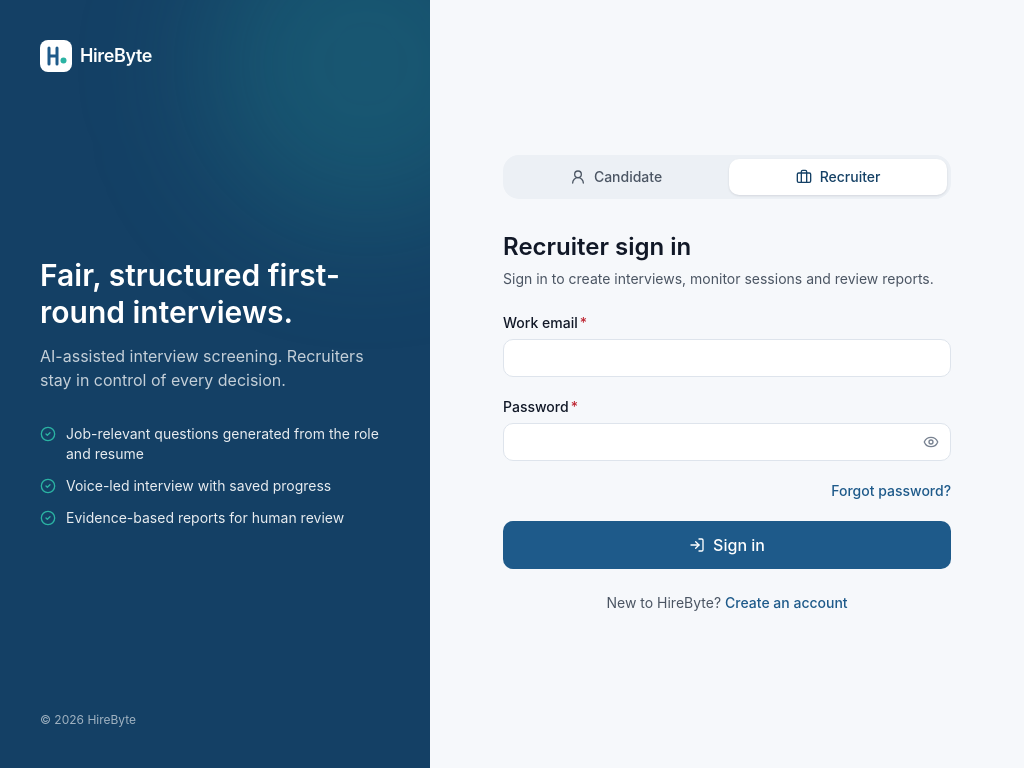
Scenario: RecruiterLoginPage › labels password reset as unavailable instead of faking it
Click the button "Forgot password?" at (891, 491), box [831,481,951,501]
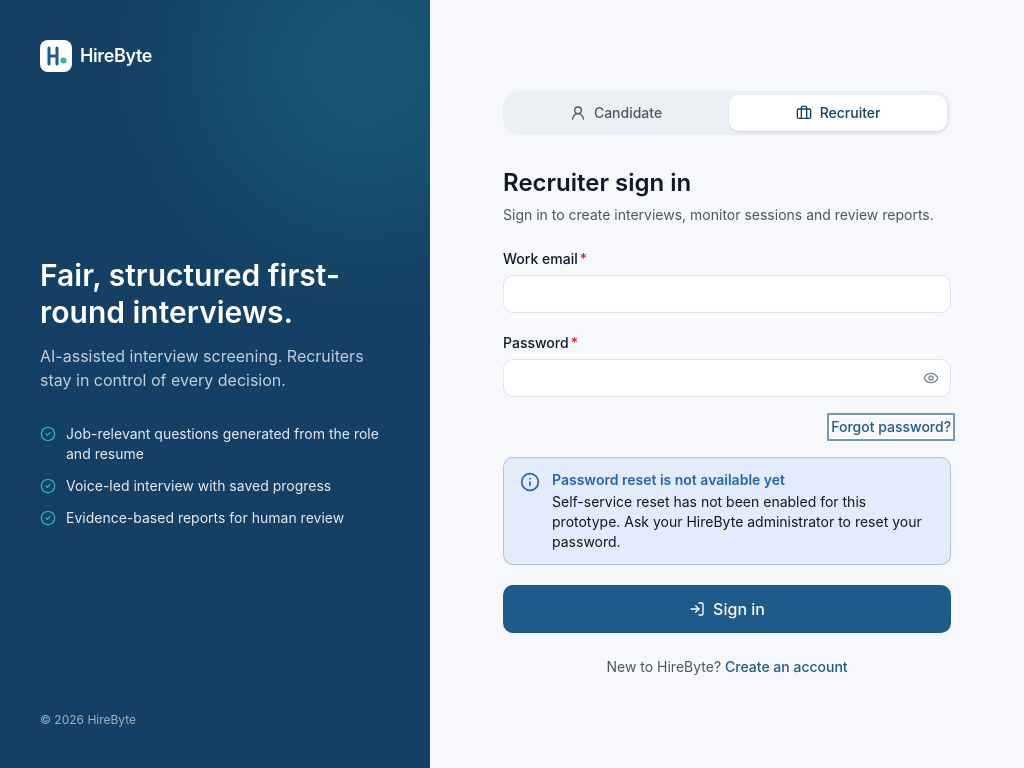
Now the text "Password reset is not available yet" is shown, box [552,471,785,488]
